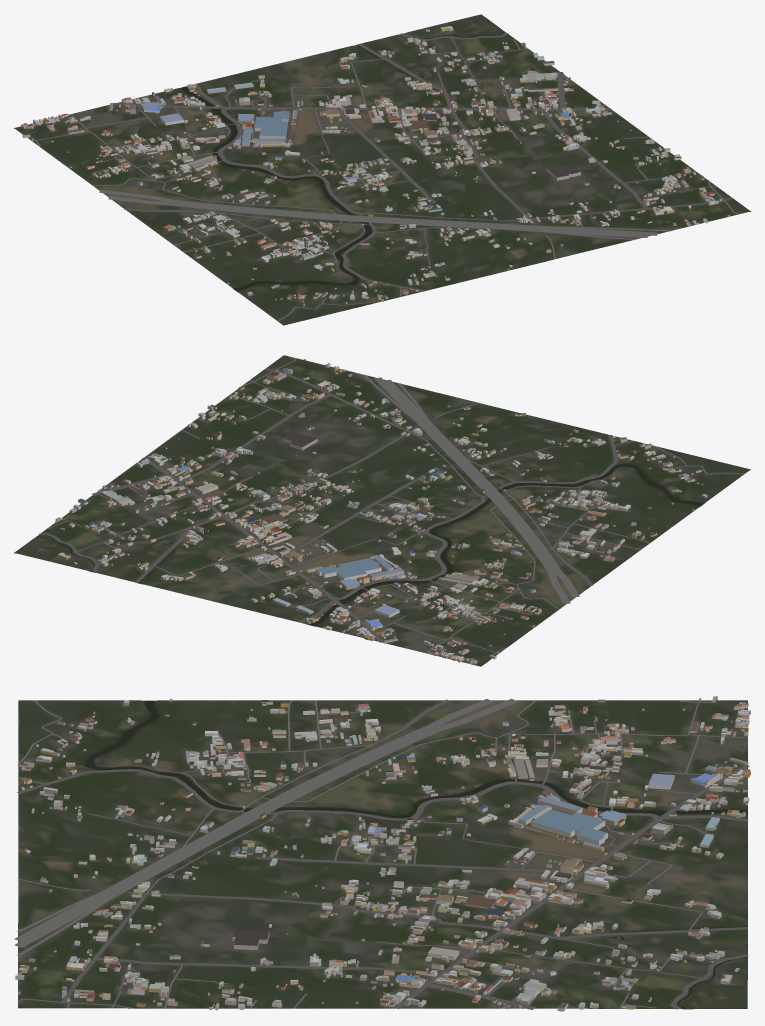
3 renders of one model, top to bottom at view 1: azimuth 30°, elevation 25°; view 2: azimuth 150°, elevation 25°; view 3: azimuth 270°, elevation 25°, orthographic. The views are drawn at different scales.
Parts seen in each view (by area): view 1: ground, buildings, roads, water; view 2: ground, buildings, roads, water; view 3: ground, buildings, roads, water.
Part boxes in pixels (box(x1,y1,x2,y2)): ground: box(14, 14, 750, 325); buildings: box(21, 26, 730, 306); roads: box(27, 32, 739, 320); water: box(181, 31, 504, 291); ground: box(14, 355, 750, 666); buildings: box(55, 359, 707, 665); roads: box(39, 358, 744, 654); water: box(36, 463, 703, 625); ground: box(18, 700, 747, 1009); buildings: box(15, 696, 750, 1011); roads: box(14, 698, 749, 1009); water: box(84, 700, 747, 1008).
Size of the model in its own units: 1422 by 18.72 by 1414.
